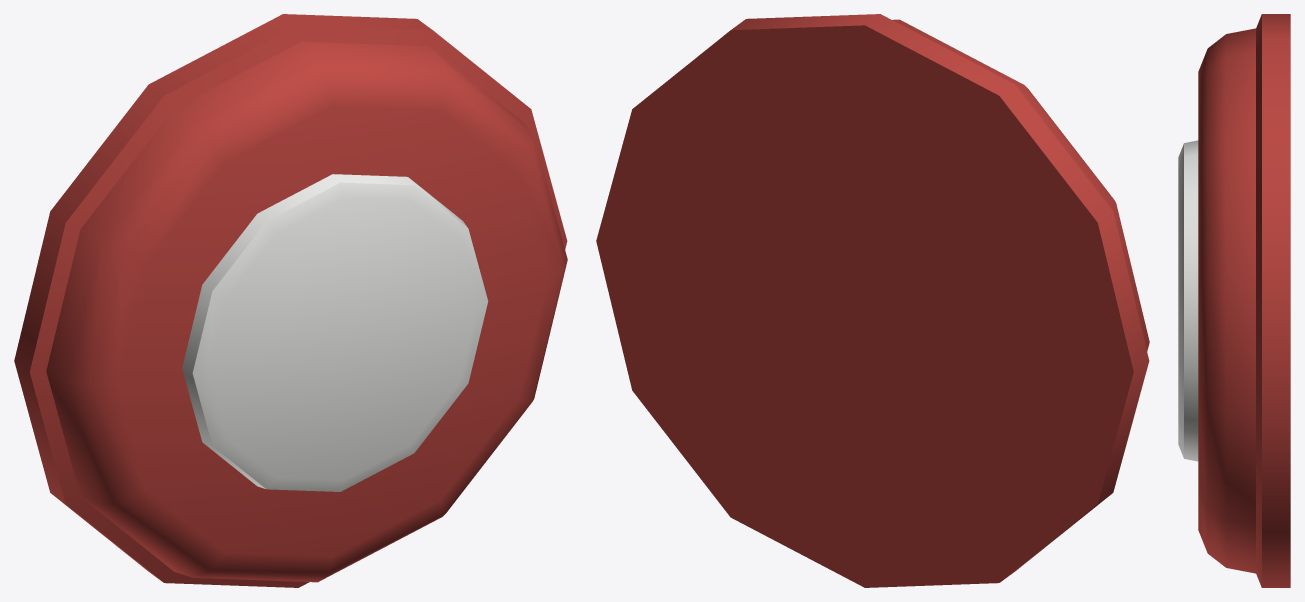
The model's file is clutch_lod1.glb.
3 renders of one model, left to right at view 1: azimuth 30°, elevation 25°; view 2: azimuth 150°, elevation 25°; view 3: azimuth 270°, elevation 25°, orthographic. The views are drawn at different scales.
Parts seen in each view (by area): view 1: clutch_lod1; view 2: clutch_lod1; view 3: clutch_lod1.
Part boxes in pixels (x1=…): clutch_lod1: x1=14, y1=14, x2=567, y2=587; clutch_lod1: x1=596, y1=14, x2=1149, y2=587; clutch_lod1: x1=1178, y1=14, x2=1290, y2=587.
Size of the model in its own units: 0.2 by 0.2 by 0.039.
